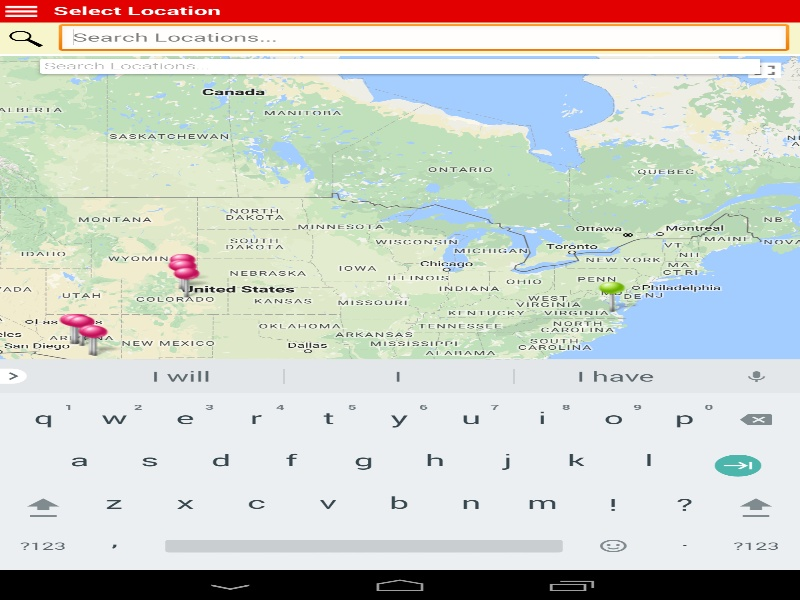Input: (58, 23, 789, 53)
